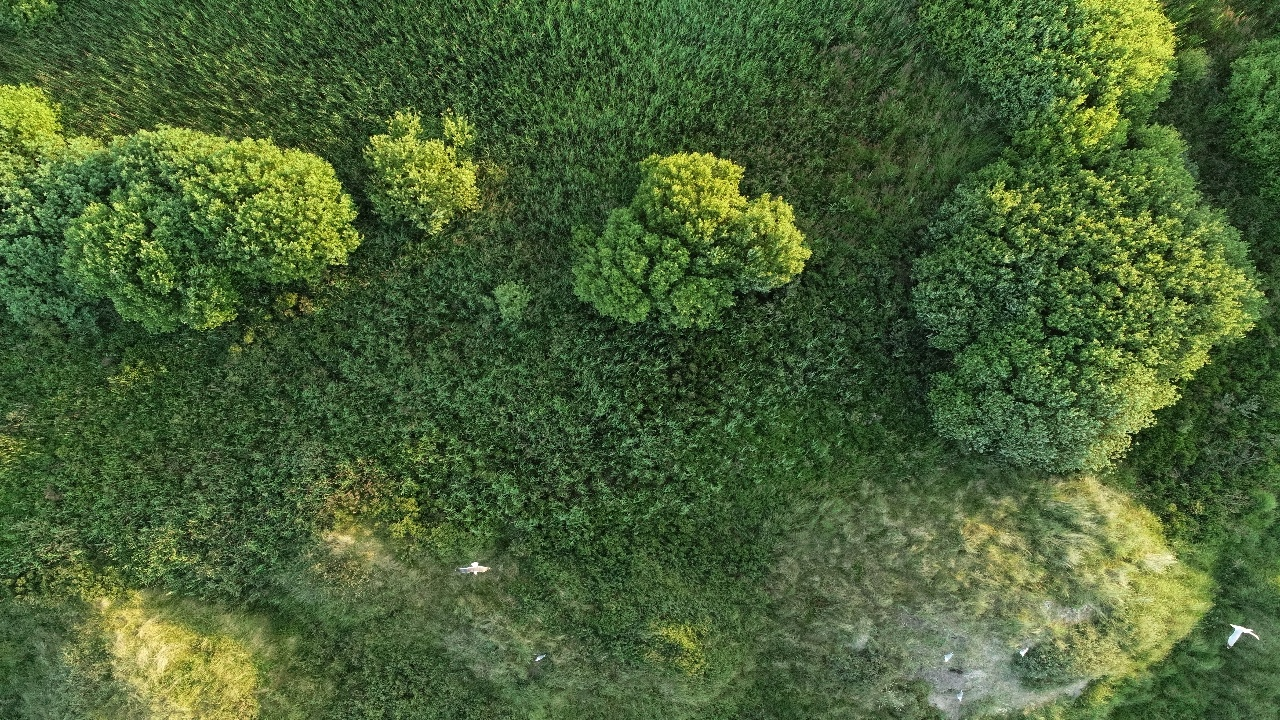Bird: (451, 550, 496, 587), (1222, 615, 1263, 655), (529, 648, 551, 669), (950, 686, 972, 707), (936, 646, 957, 667), (1016, 640, 1037, 661)
